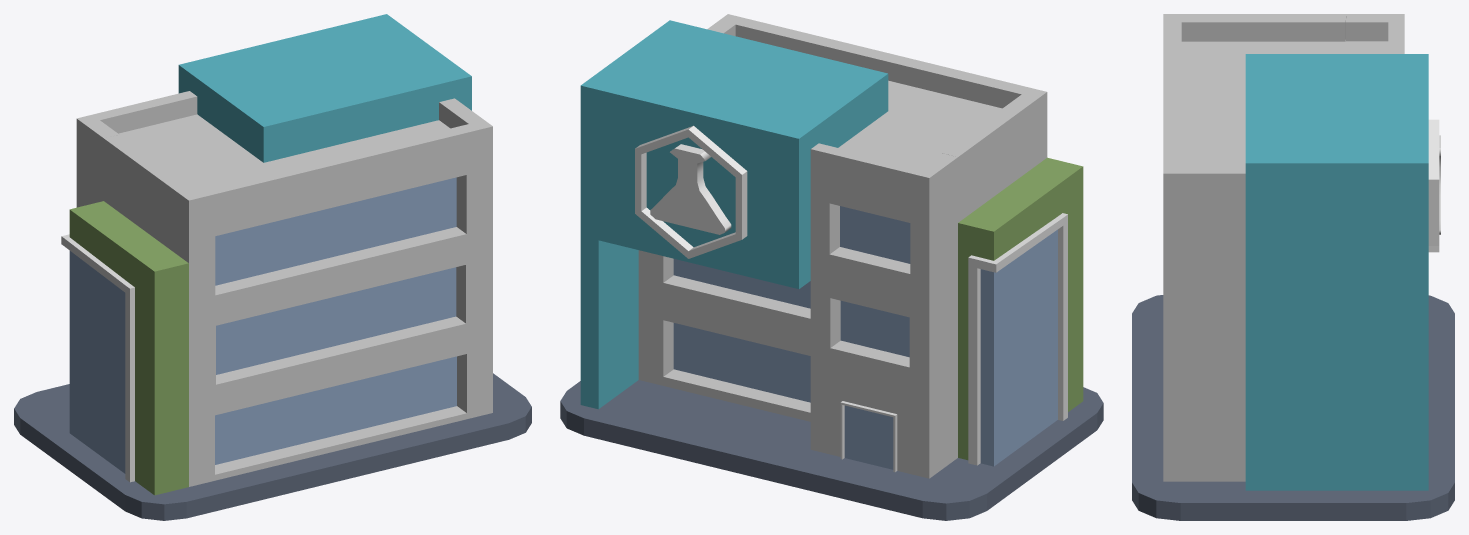
Rendered from Research_Center.fbx.
3 renders of one model, left to right at view 1: azimuth 30°, elevation 25°; view 2: azimuth 150°, elevation 25°; view 3: azimuth 270°, elevation 25°, orthographic. The views are drawn at different scales.
Visible parts, largest first — view 1: Research_Center; view 2: Research_Center; view 3: Research_Center.
Boxes of the visible parts, x1,y1,x2,y2 form: Research_Center: (14,14,531,520); Research_Center: (560,14,1103,520); Research_Center: (1132,14,1454,520).
Bounding box in the file's own units: 23.4 × 17.92 × 15.18.
